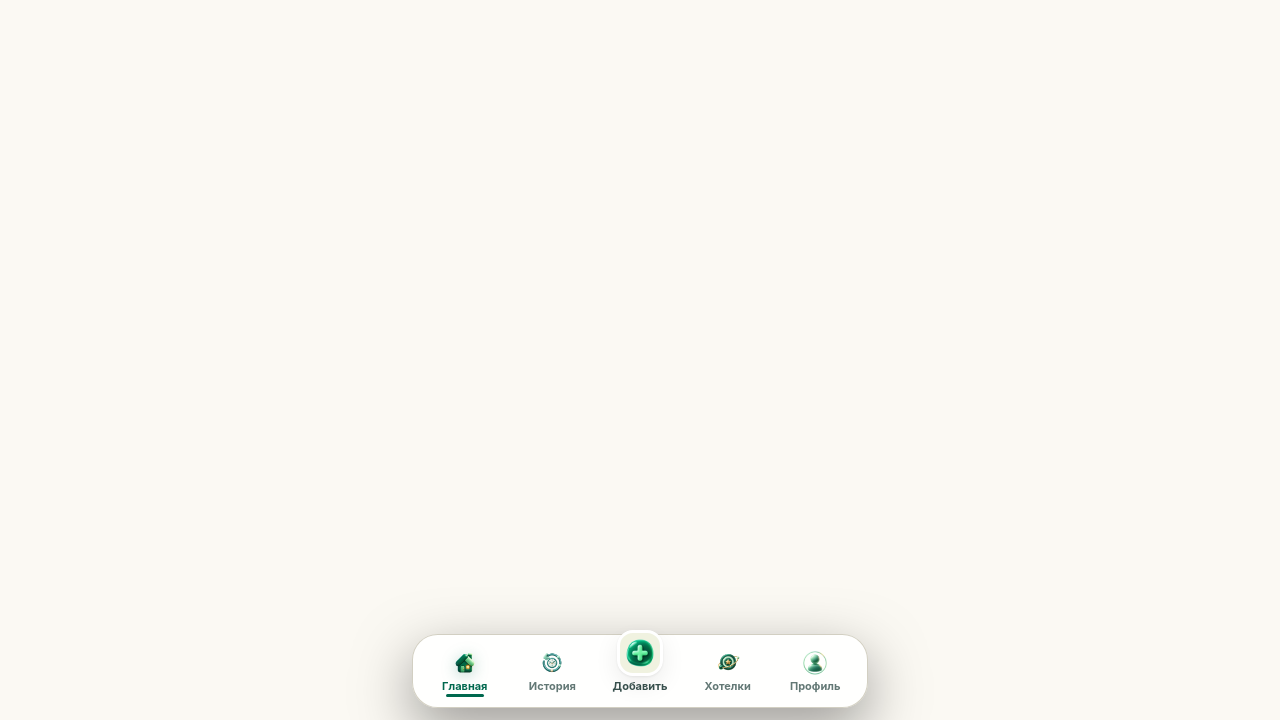
Test: application navigation › shows an empty state when there are no accounts
Click the button "Добавить".
click(640, 671)  # box [596, 643, 684, 699]
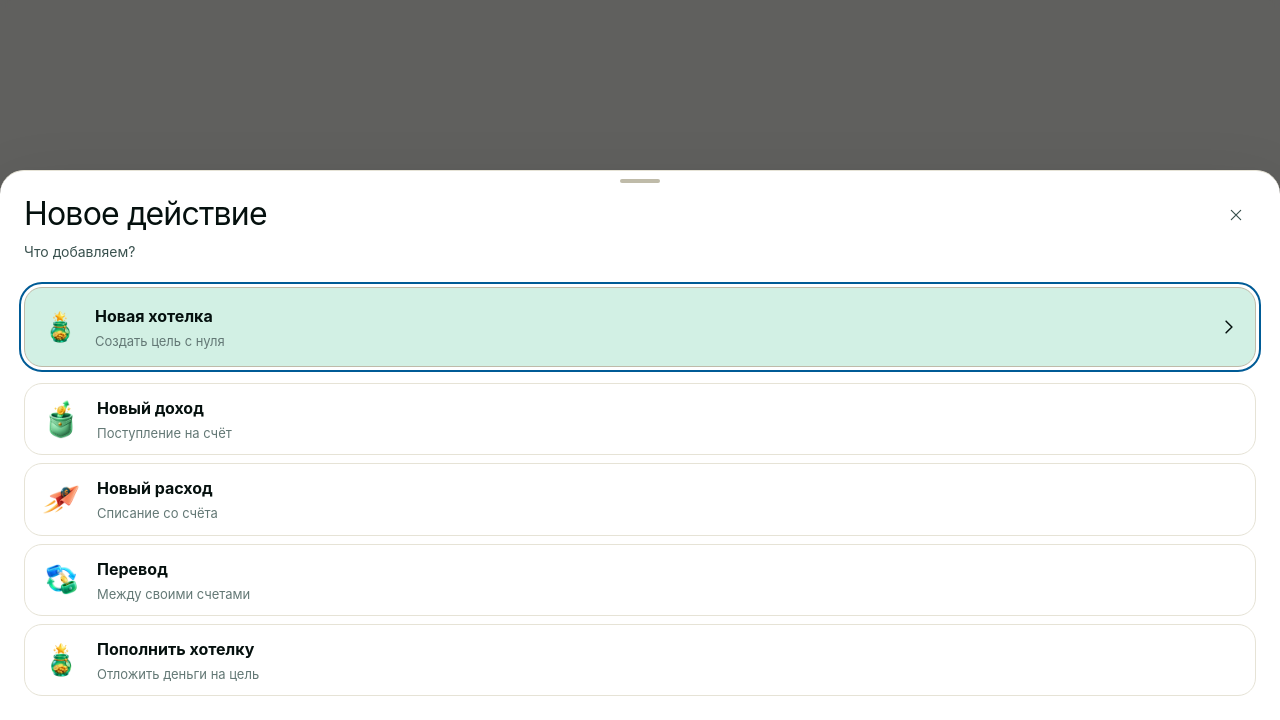
Click the button "Новый доход Поступление на счёт".
click(61, 419)  # box [24, 383, 1256, 456]
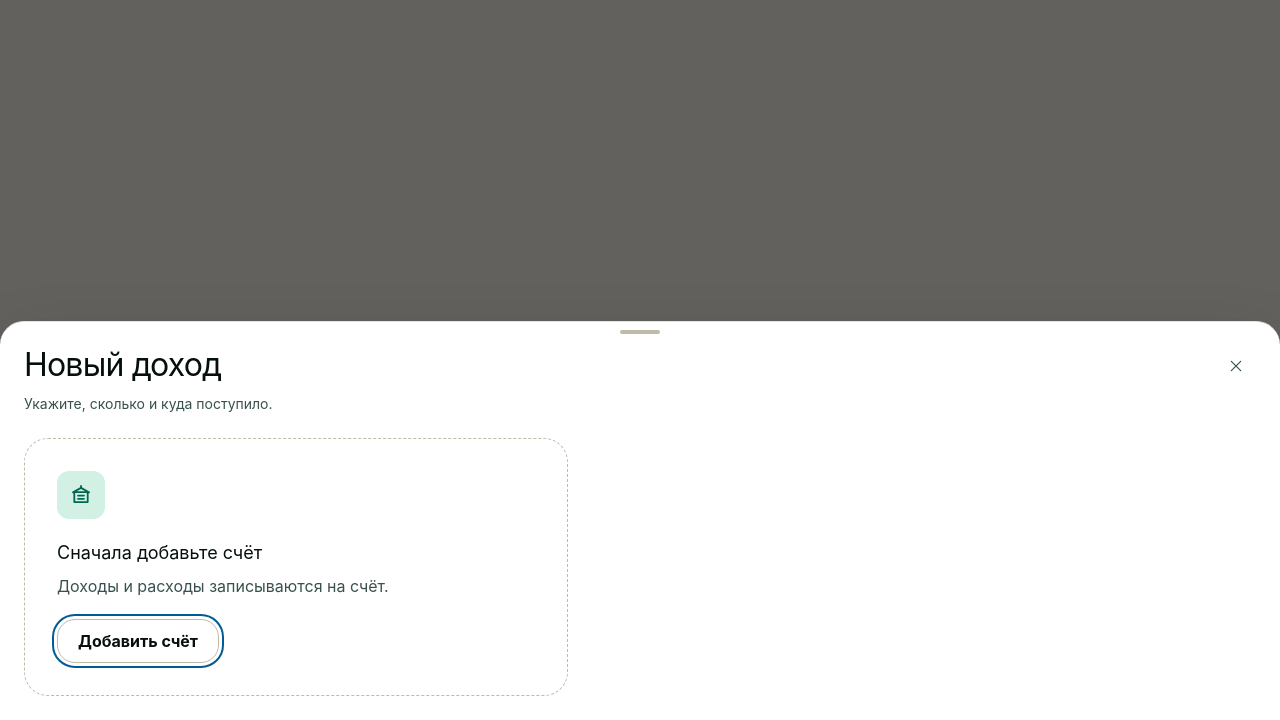
expect the heading "Сначала добавьте счёт" is shown: met, box [57, 539, 262, 566]
